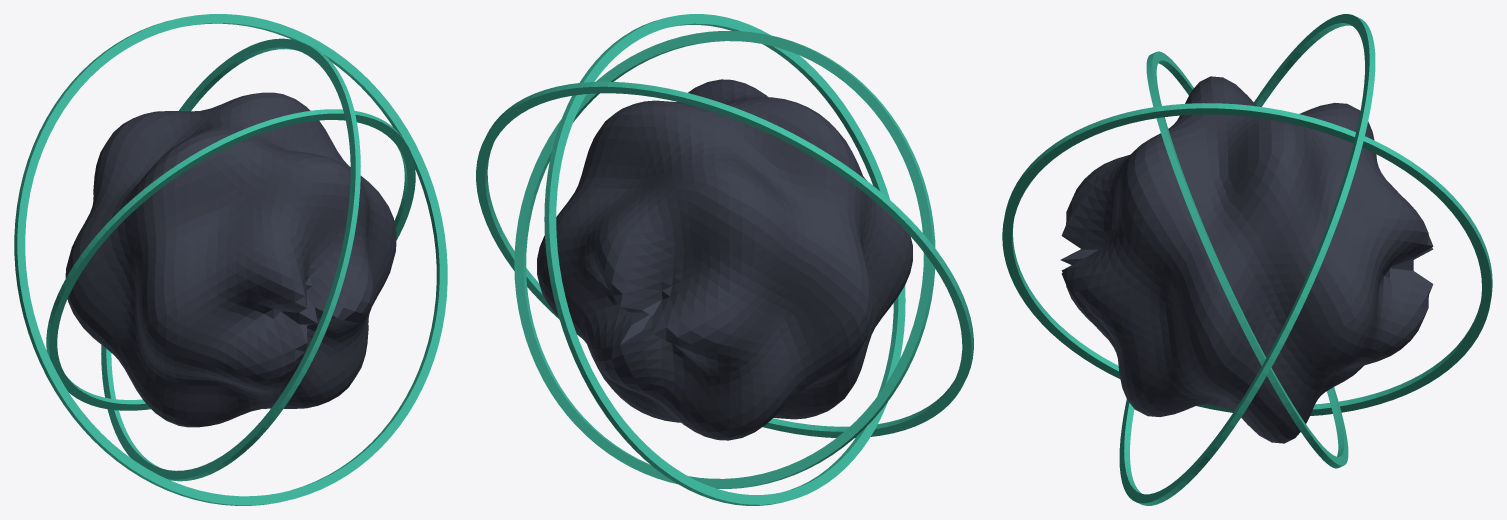
Rendered from gpu-artifact.glb.
3 renders of one model, left to right at view 1: azimuth 30°, elevation 25°; view 2: azimuth 150°, elevation 25°; view 3: azimuth 270°, elevation 25°, orthographic. The views are drawn at different scales.
Visible parts, largest first — view 1: agent-prompt-firewall_obsidian_core, agent-prompt-firewall_orbital_ring_2, agent-prompt-firewall_orbital_ring_1, agent-prompt-firewall_orbital_ring_0; view 2: agent-prompt-firewall_obsidian_core, agent-prompt-firewall_orbital_ring_0, agent-prompt-firewall_orbital_ring_1, agent-prompt-firewall_orbital_ring_2; view 3: agent-prompt-firewall_obsidian_core, agent-prompt-firewall_orbital_ring_1, agent-prompt-firewall_orbital_ring_2, agent-prompt-firewall_orbital_ring_0.
Part boxes in pixels (x1=…): agent-prompt-firewall_obsidian_core: x1=65, y1=92, x2=396, y2=427; agent-prompt-firewall_orbital_ring_2: x1=14, y1=14, x2=447, y2=505; agent-prompt-firewall_orbital_ring_1: x1=101, y1=38, x2=360, y2=481; agent-prompt-firewall_orbital_ring_0: x1=46, y1=109, x2=415, y2=410; agent-prompt-firewall_obsidian_core: x1=537, y1=79, x2=912, y2=440; agent-prompt-firewall_orbital_ring_0: x1=514, y1=31, x2=935, y2=488; agent-prompt-firewall_orbital_ring_1: x1=544, y1=14, x2=905, y2=505; agent-prompt-firewall_orbital_ring_2: x1=476, y1=81, x2=973, y2=437; agent-prompt-firewall_obsidian_core: x1=1060, y1=76, x2=1433, y2=443; agent-prompt-firewall_orbital_ring_1: x1=1002, y1=103, x2=1492, y2=415; agent-prompt-firewall_orbital_ring_2: x1=1119, y1=14, x2=1375, y2=505; agent-prompt-firewall_orbital_ring_0: x1=1146, y1=51, x2=1348, y2=468.
Bounding box in the file's own units: 3.24 × 2.89 × 2.98.
